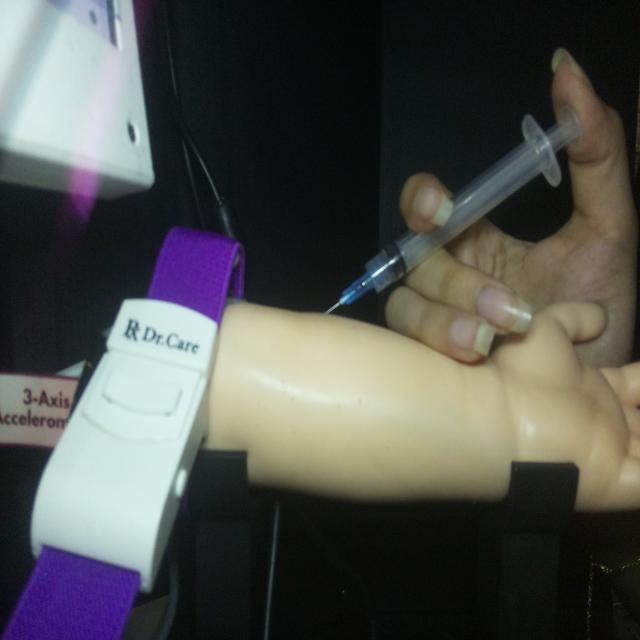27 degrees: (323, 100, 584, 317)
